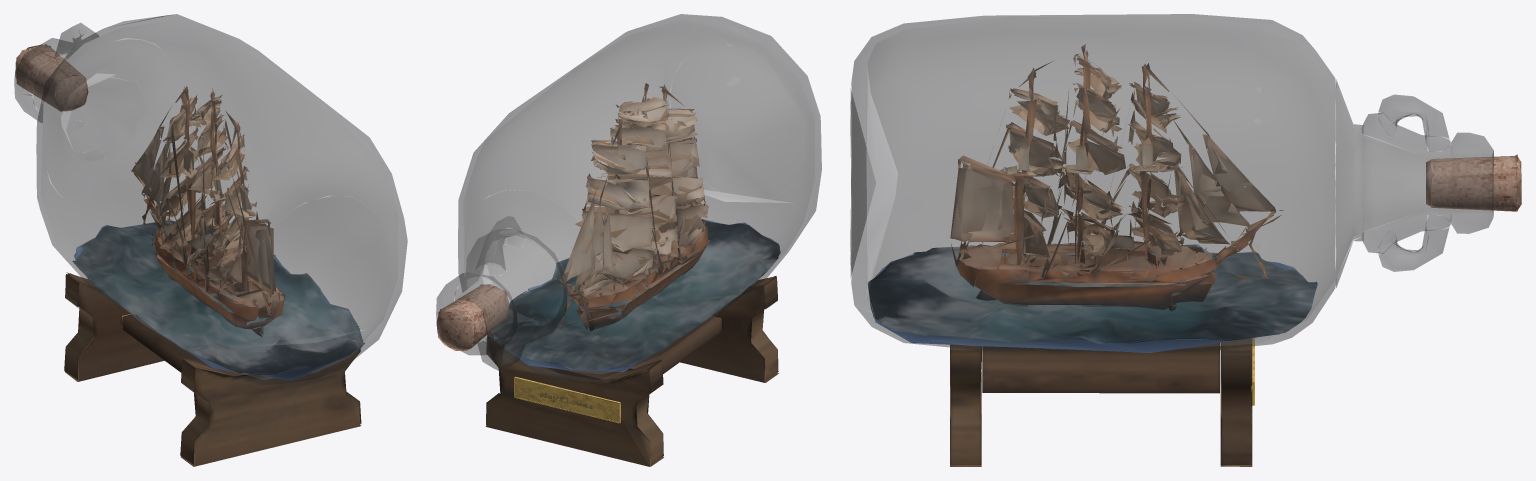
The picture shows the model from 3 angles, left to right: view 1: azimuth 30°, elevation 25°; view 2: azimuth 150°, elevation 25°; view 3: azimuth 270°, elevation 25°; orthographic projection. The views are drawn at different scales.
Parts seen in each view (by area): view 1: bottle_export, support_export, boat_export, sea, cap_export, bottle_export.001; view 2: bottle_export, boat_export, support_export, sea, cap_export, plaque_export, bottle_export.001; view 3: bottle_export, boat_export, sea, support_export, cap_export, bottle_export.001.
Boxes of the visible parts, x1,y1,x2,y2 form: bottle_export: [14, 14, 407, 385]; support_export: [64, 272, 361, 466]; boat_export: [131, 86, 284, 336]; sea: [72, 220, 364, 380]; cap_export: [15, 44, 88, 111]; bottle_export.001: [33, 24, 387, 346]; bottle_export: [436, 14, 821, 380]; boat_export: [555, 83, 710, 330]; support_export: [485, 276, 778, 466]; sea: [493, 218, 780, 371]; cap_export: [436, 284, 509, 350]; plaque_export: [514, 376, 620, 423]; bottle_export.001: [480, 76, 793, 341]; bottle_export: [850, 14, 1493, 352]; boat_export: [950, 44, 1283, 311]; sea: [867, 242, 1317, 352]; support_export: [950, 338, 1252, 466]; cap_export: [1426, 154, 1521, 211]; bottle_export.001: [867, 63, 1426, 295].
Bounding box in the file's own units: 1.39 × 2.14 × 3.35.
Materials: 8 (5 with a texture image).
